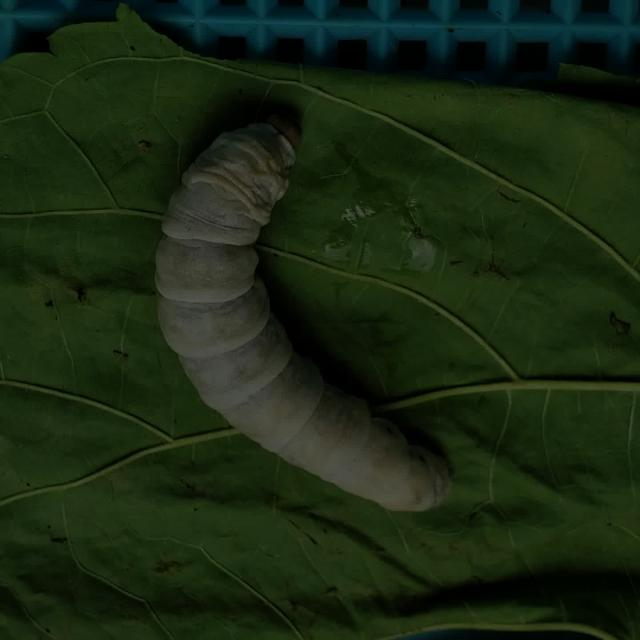Grasserie: (136, 89, 492, 531)
